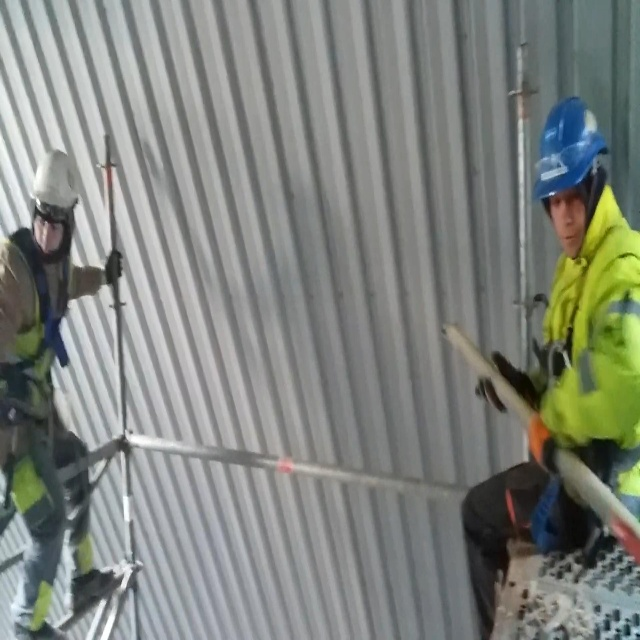Arnes_seguridad: (0, 221, 80, 468)
